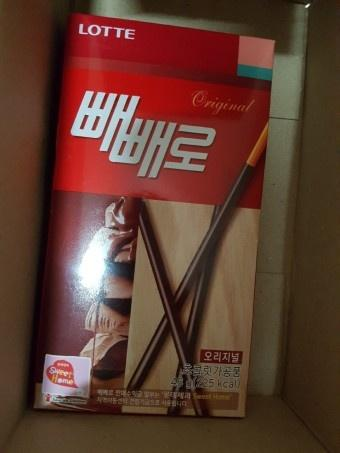snack: (33, 8, 275, 419)
